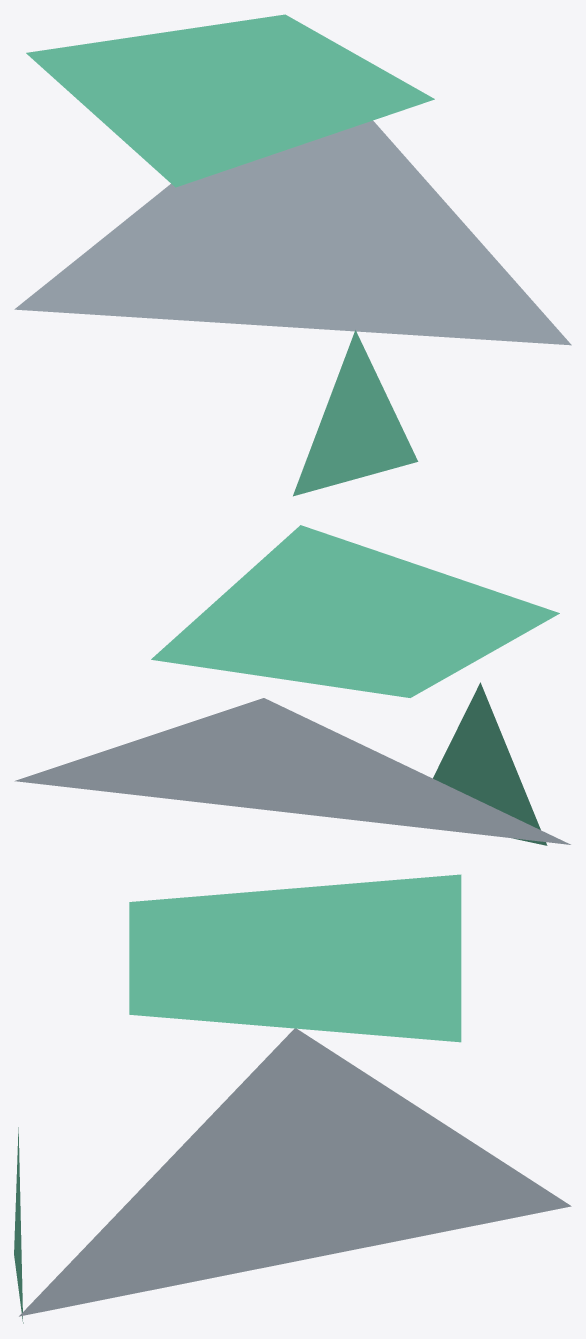
Rendered from CO_ShieldHub_LOD2.glb.
3 views of the same model, one above another, from view 1: azimuth 30°, elevation 25°; view 2: azimuth 150°, elevation 25°; view 3: azimuth 270°, elevation 25° (orthographic). The views are drawn at different scales.
Visible parts, largest first — view 1: EntranceGate; view 2: EntranceGate; view 3: EntranceGate.
Part boxes in pixels (bbox=[...]): EntranceGate: bbox=[14, 14, 571, 496]; EntranceGate: bbox=[14, 525, 570, 845]; EntranceGate: bbox=[14, 874, 571, 1323].
Bounding box in the file's own units: 400 × 275 × 403.
